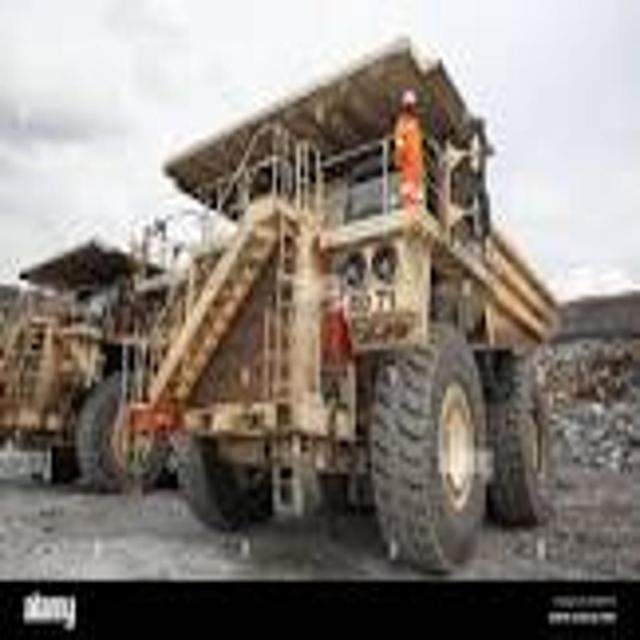dump_truck: (133, 64, 568, 581)
